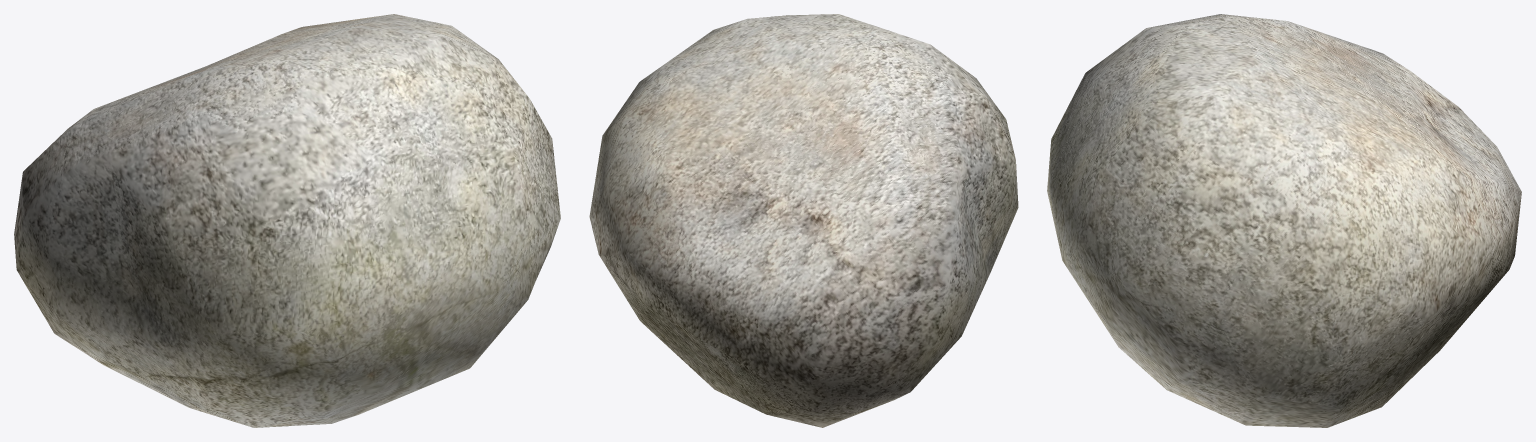
File: Rock2Complete.glb
3 views of the same model, side by side, from view 1: azimuth 30°, elevation 25°; view 2: azimuth 150°, elevation 25°; view 3: azimuth 270°, elevation 25° (orthographic). The views are drawn at different scales.
Parts seen in each view (by area): view 1: Rock5UltraLowPoly; view 2: Rock5UltraLowPoly; view 3: Rock5UltraLowPoly.
Boxes of the visible parts, box(x1,y1,x2,y2) form: Rock5UltraLowPoly: box(14, 14, 560, 427); Rock5UltraLowPoly: box(589, 14, 1018, 427); Rock5UltraLowPoly: box(1047, 14, 1521, 427).
Size of the model in its own units: 1.24 by 1.05 by 1.24.
Materials: 1 (1 with a texture image).
